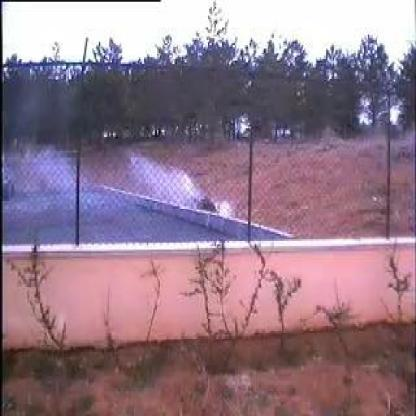-: (33, 134, 214, 242)
